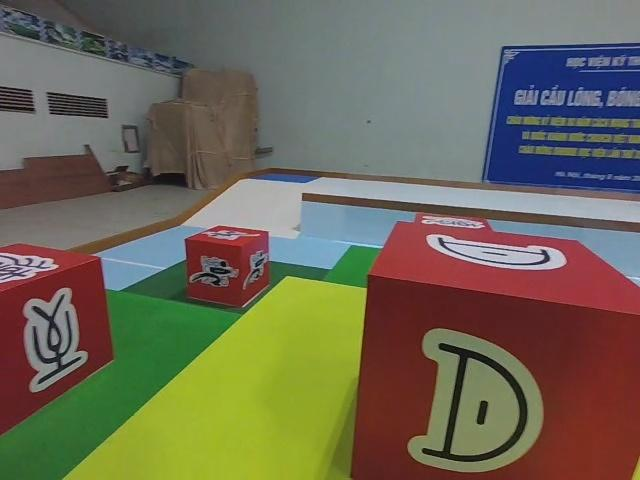R1: (184, 224, 271, 307)
R2 Fake: (0, 239, 114, 441)
R2 Real: (348, 219, 640, 480)
